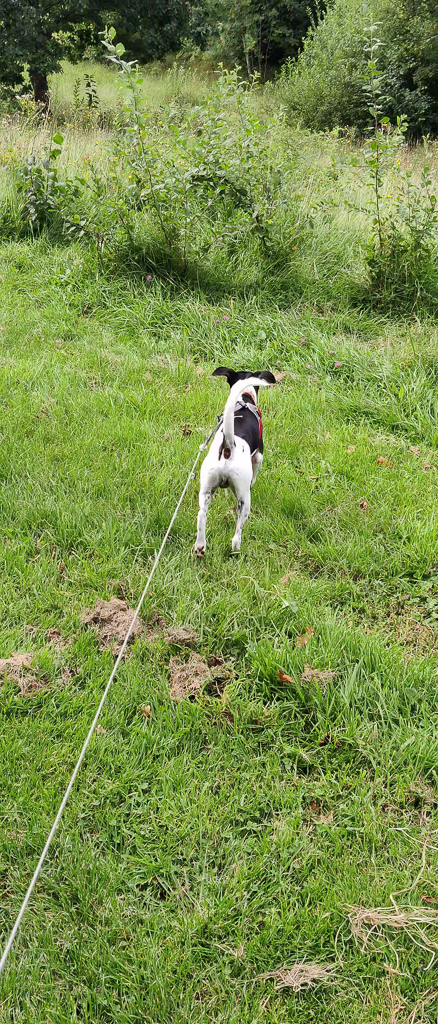Dog: (178, 346, 290, 573)
